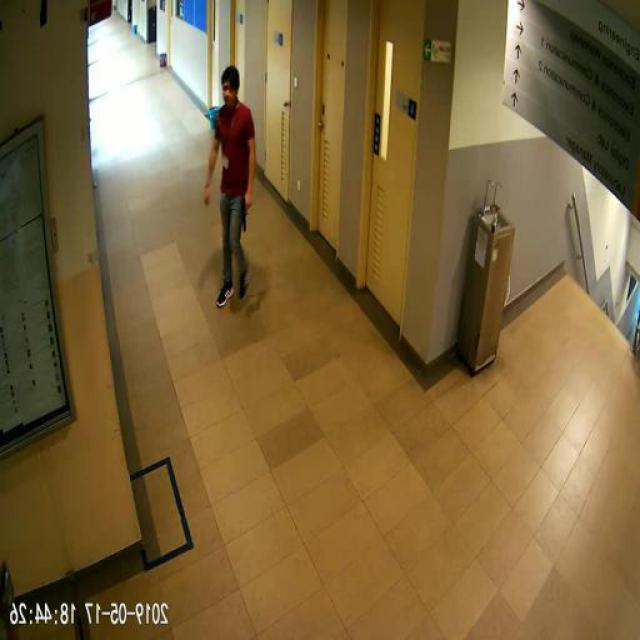weapon: (239, 193, 252, 233)
